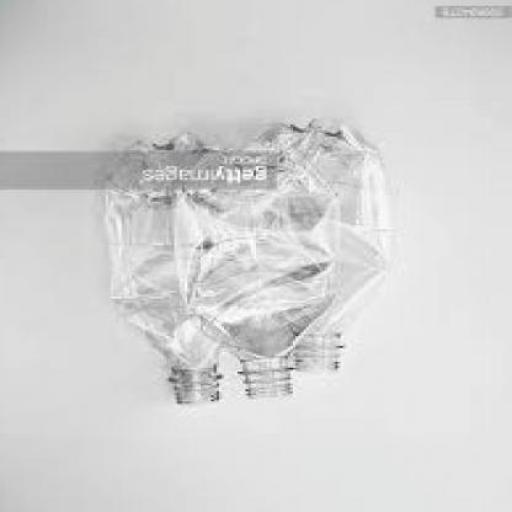plastic: (173, 148, 346, 402), (256, 122, 404, 376), (106, 134, 235, 408)
